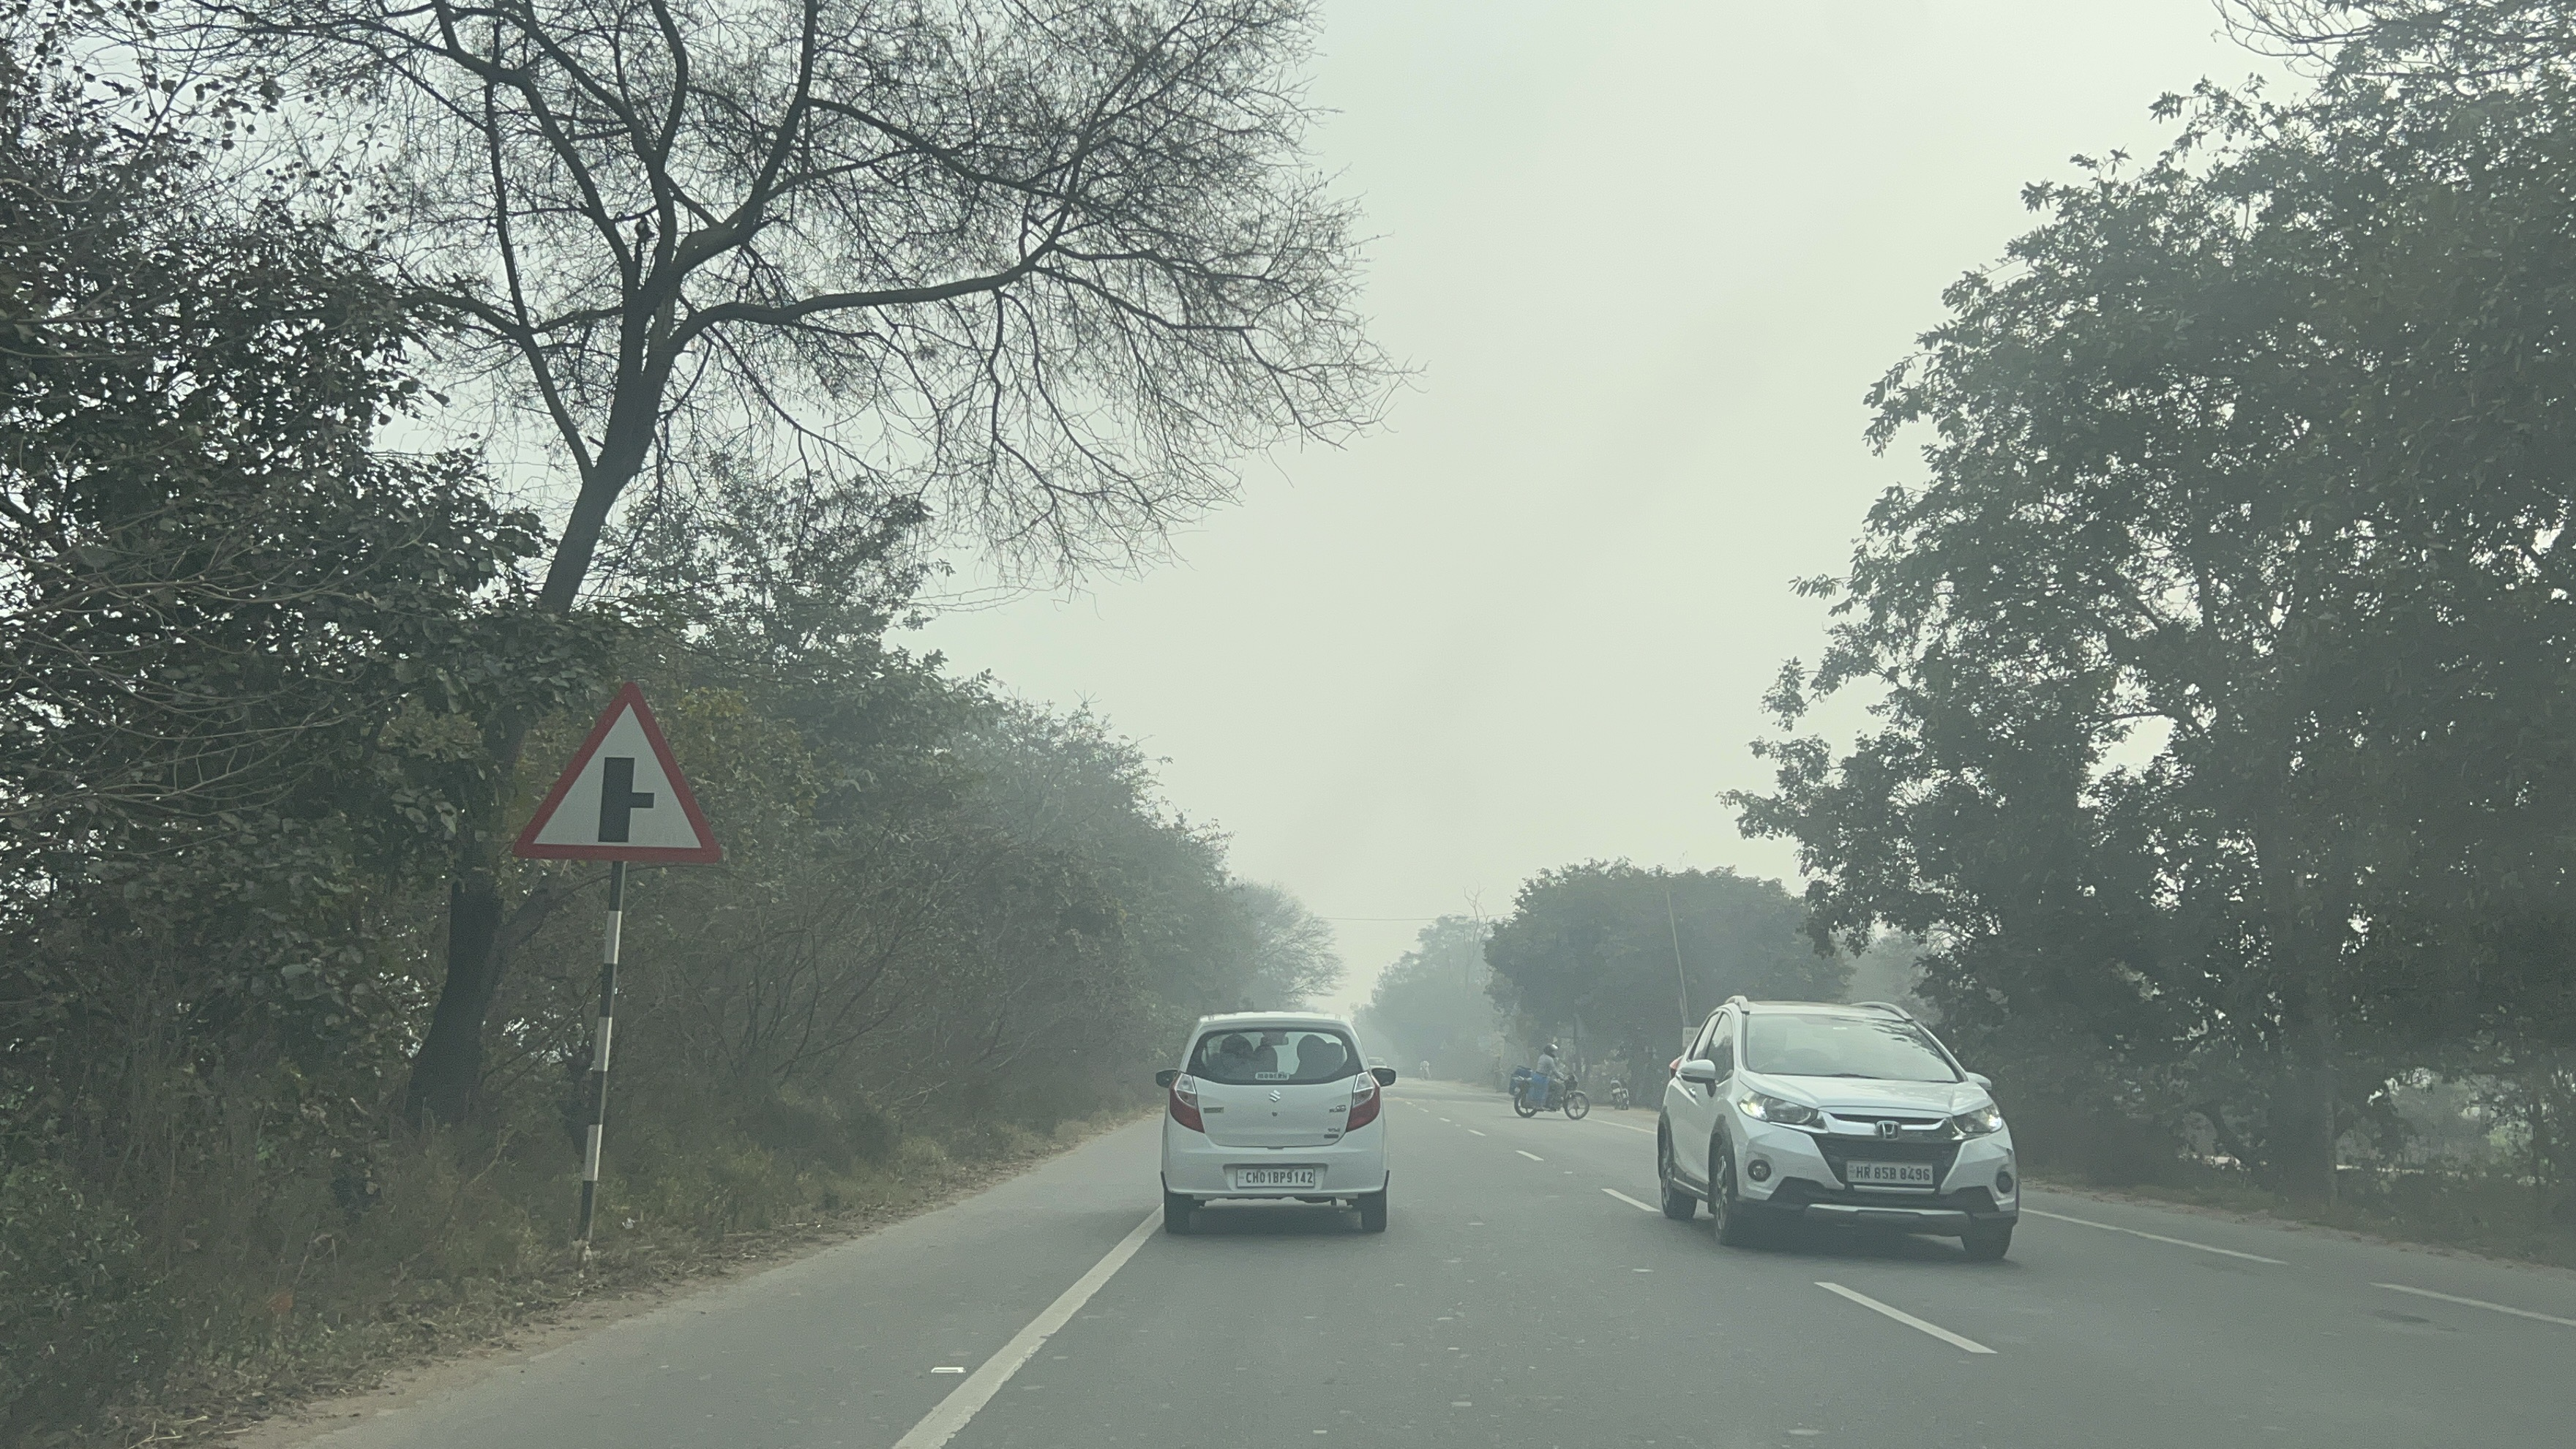Warning: (499, 658, 732, 879)
